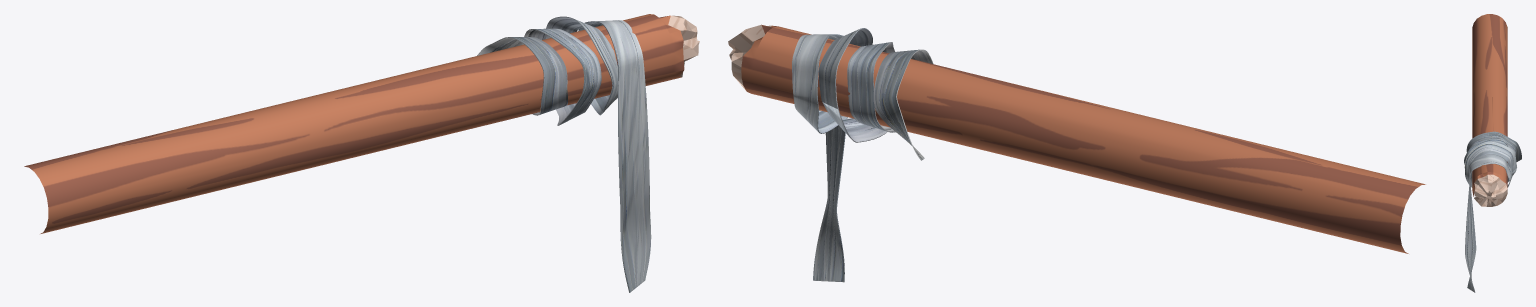
The picture shows the model from 3 angles, left to right: view 1: azimuth 30°, elevation 25°; view 2: azimuth 150°, elevation 25°; view 3: azimuth 270°, elevation 25°; orthographic projection. The views are drawn at different scales.
Visible parts, largest first — view 1: 木头_obj, 扫描; view 2: 木头_obj, 扫描; view 3: 木头_obj, 扫描.
Boxes of the visible parts, <box> form: 木头_obj: <box>24,14,699,233</box>; 扫描: <box>477,16,651,292</box>; 木头_obj: <box>728,24,1425,253</box>; 扫描: <box>792,28,933,282</box>; 木头_obj: <box>1472,14,1507,206</box>; 扫描: <box>1464,131,1521,292</box>.
Size of the model in its own units: 0.9849 by 0.3762 by 0.1433.
2 materials, 2 textured.
